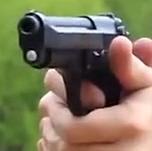gun: (1, 1, 152, 151)
